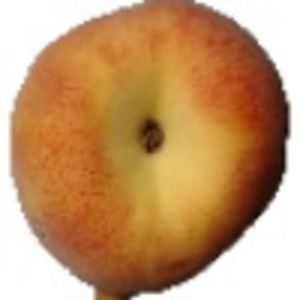pêssego: (8, 1, 292, 300)
